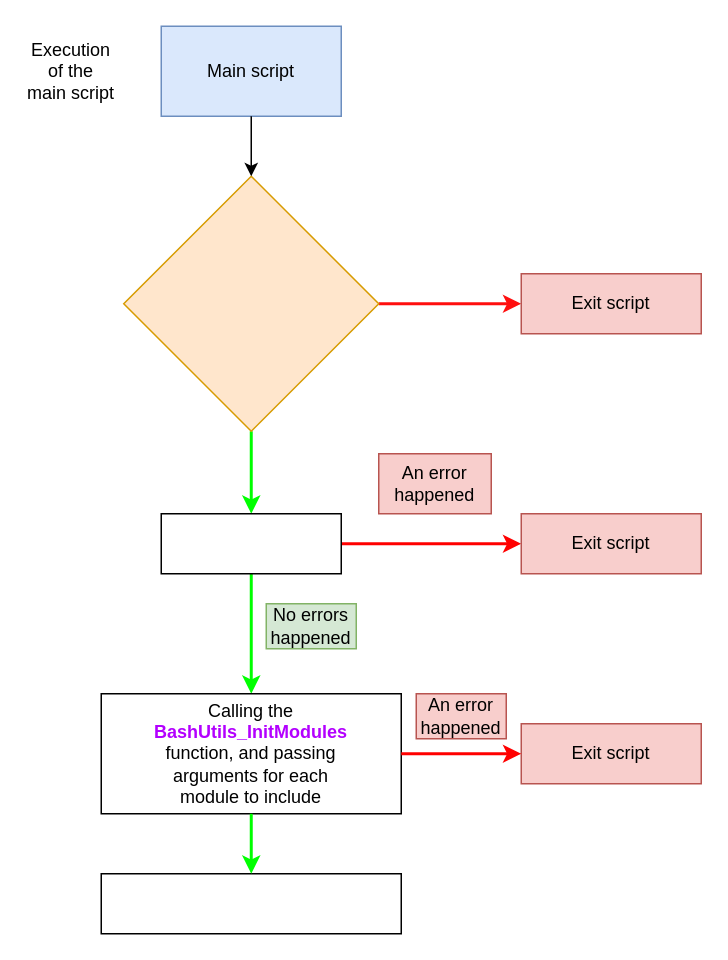
This 728x960 diagram has some shape labels left out. The box of each missing label's shape, as (x1, y1, x2, y2) in pixels:
Does the initialization script exist in the specified path ?: (122, 175, 379, 431)
Executing the user's script: (100, 872, 401, 934)
Sourcing the initialization script: (160, 512, 341, 574)
